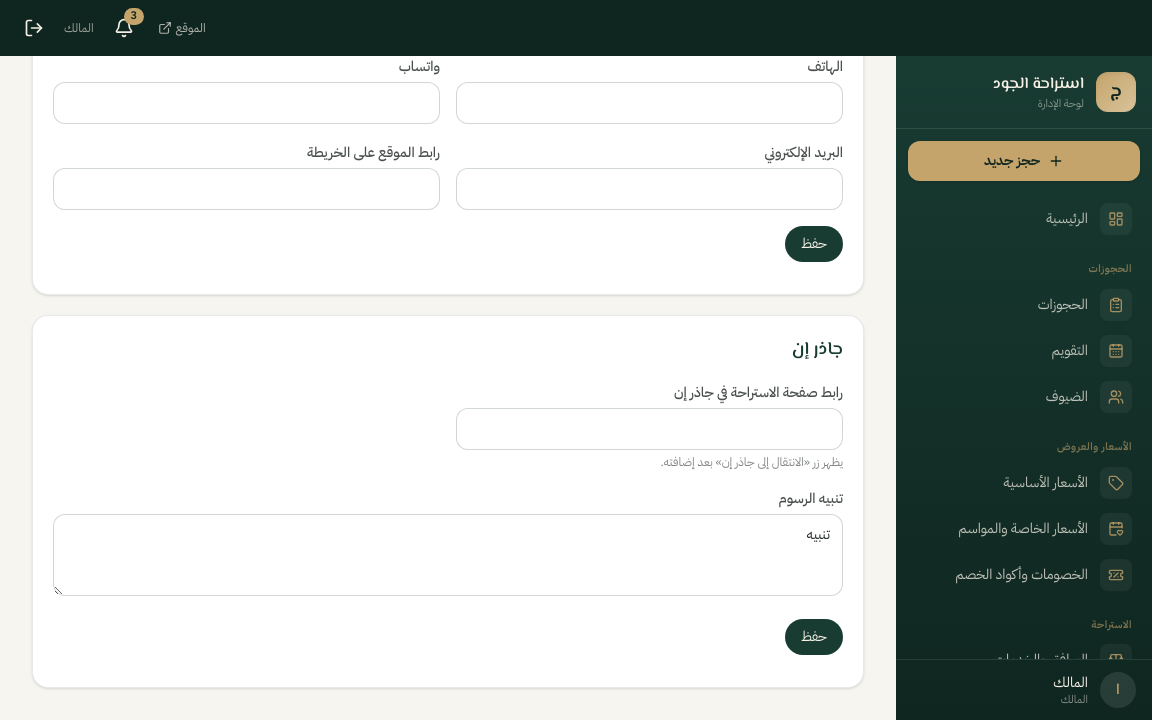
Test: settings › saves the Gathern link
(page scrolled)
Type "https://gathern.co/view/1" into the field labelled "رابط صفحة الاستراحة في جاذر إن".
click(650, 429); type("https://gathern.co/view/1")  # box [456, 408, 843, 450]
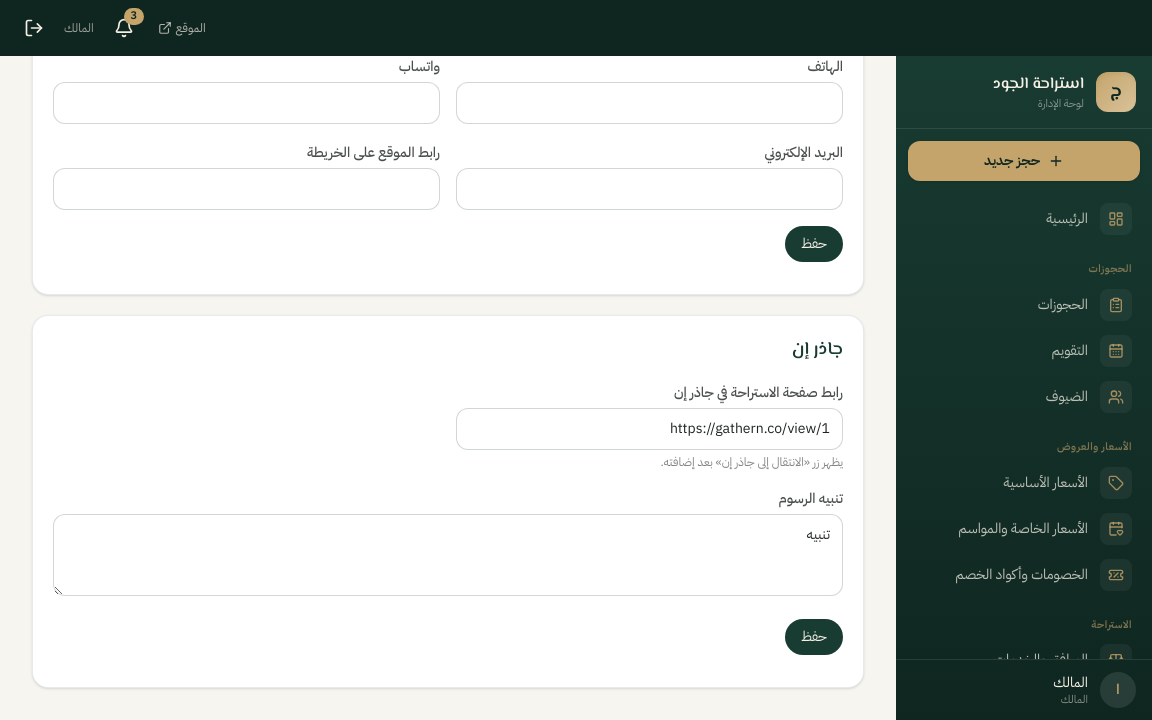
Click the button "حفظ" below "تنبيه الرسوم".
click(814, 637)  # box [785, 619, 843, 655]
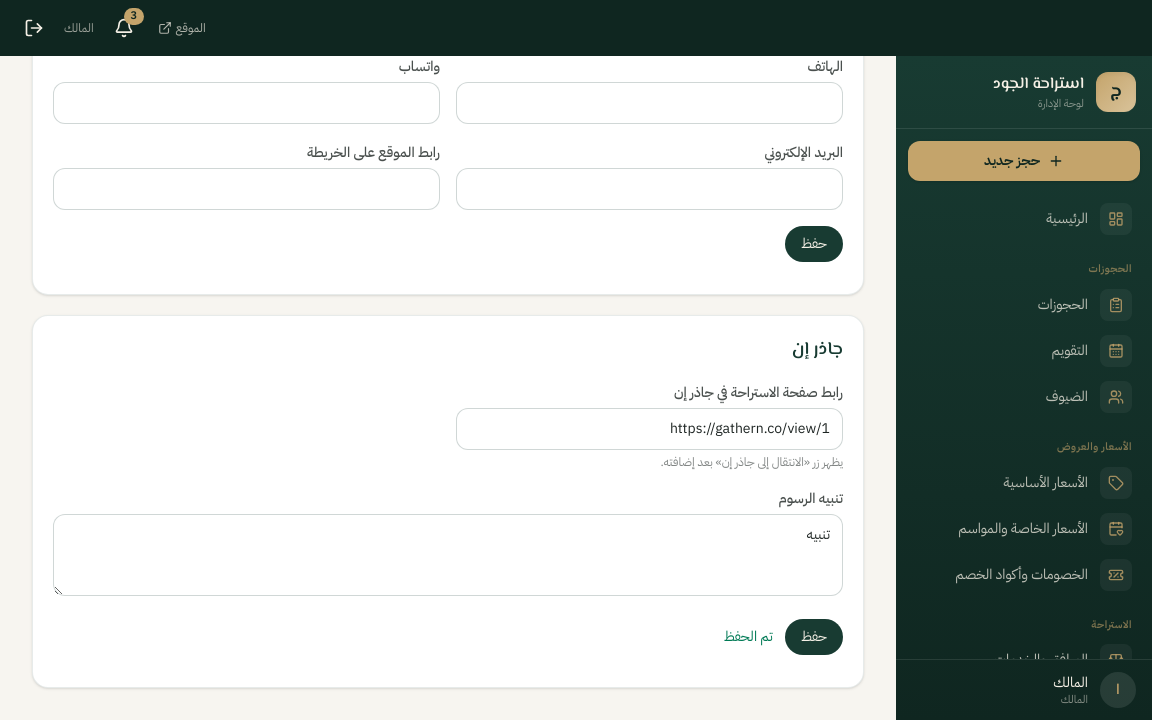
Now the text "تم الحفظ" is shown, box [724, 627, 773, 647]
